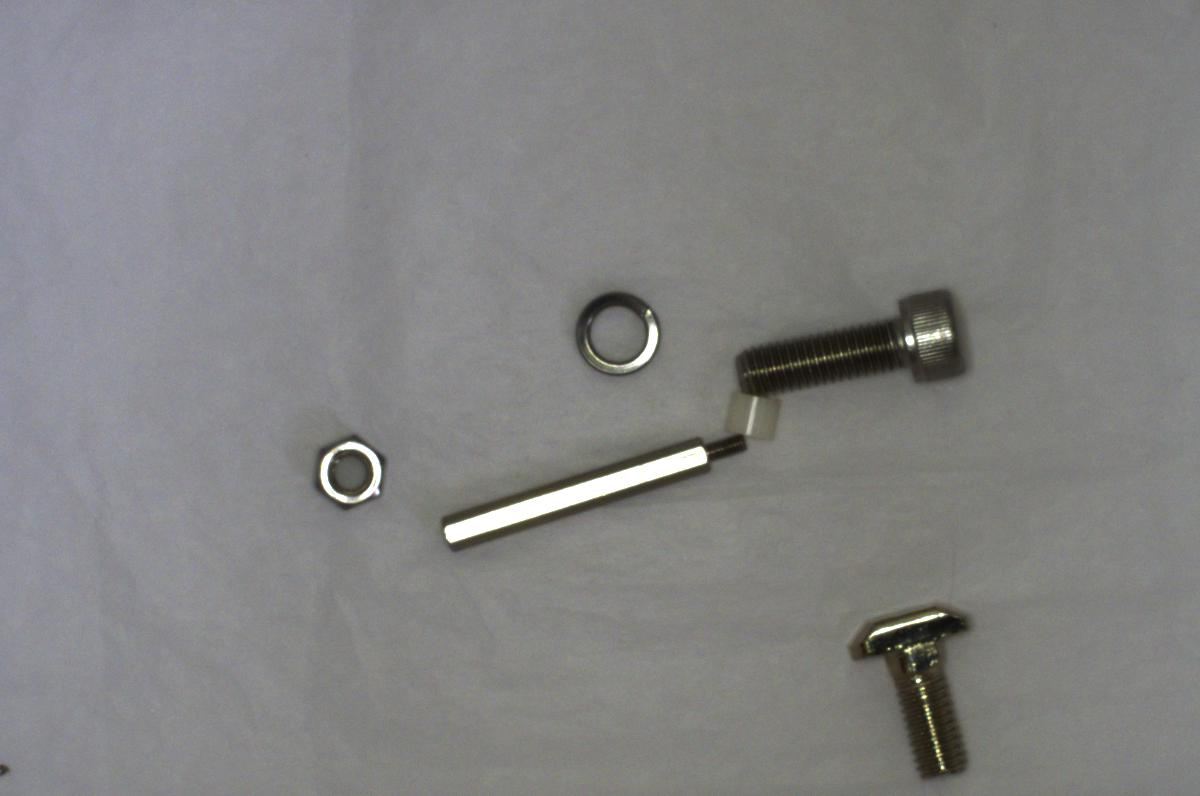Hexagon nut: (305, 426, 391, 515)
Hexagon screw: (731, 283, 979, 396)
Hexagonal steel column: (428, 427, 751, 563)
Plastic cushion pillar: (719, 382, 786, 447)
Spring washer: (554, 280, 674, 382)
T-shaped screw: (846, 588, 985, 781)
